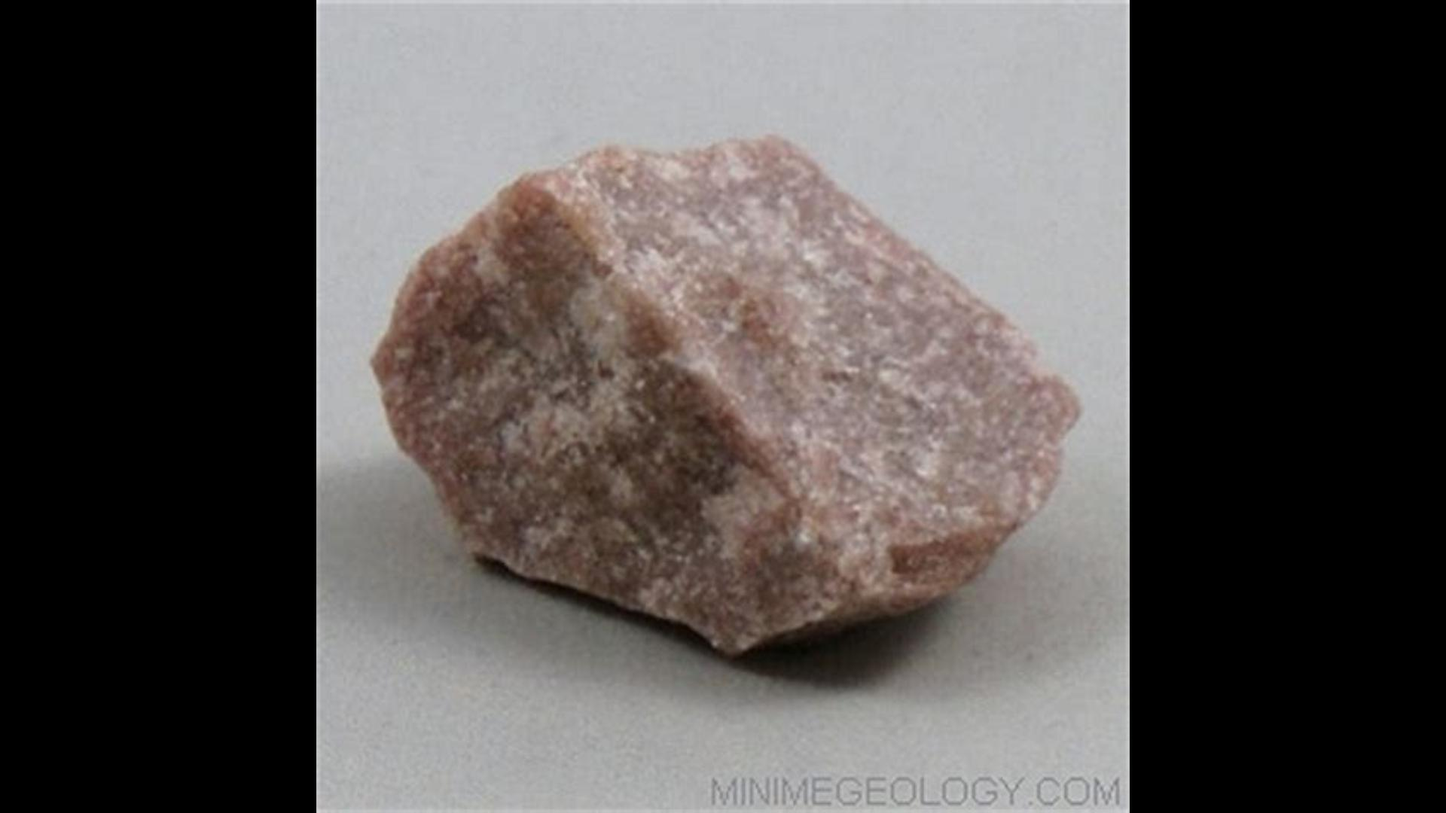rock: (373, 141, 1076, 652)
